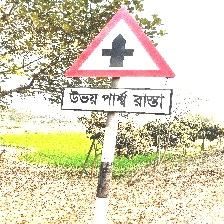Crossroad: (63, 5, 178, 117)
